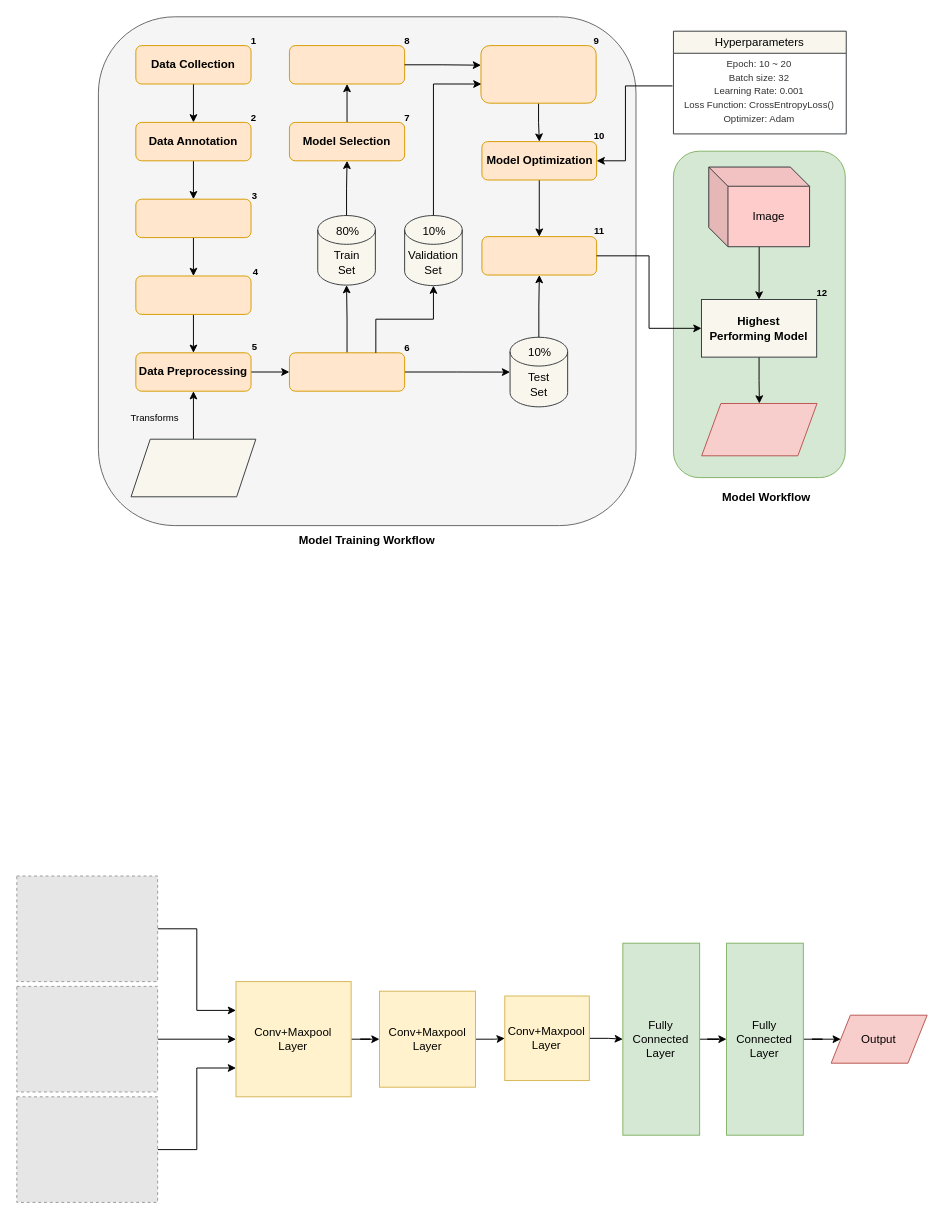
Some shapes in this 945 by 1219 pixel diagram are drawn without their labels. Grey dashed boxes stand in for pictures. Here are the shapes that lost their labels. From the top down, the centre of each, then its label:
At pixel 346 64: "Model Training".
At pixel 538 74: "Model Performance Evaluation".
At pixel 193 218: "Data Cleaning".
At pixel 539 255: "Final Evaluation".
At pixel 193 294: "Data Analysis and Visualization".
At pixel 346 371: "Split Dataset".
At pixel 759 429: "Classification Output".
At pixel 193 467: "Resize To Tensor Normalize Pixel".
